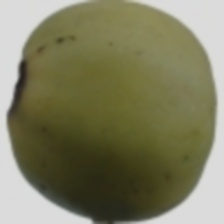apple: (31, 18, 224, 178)
